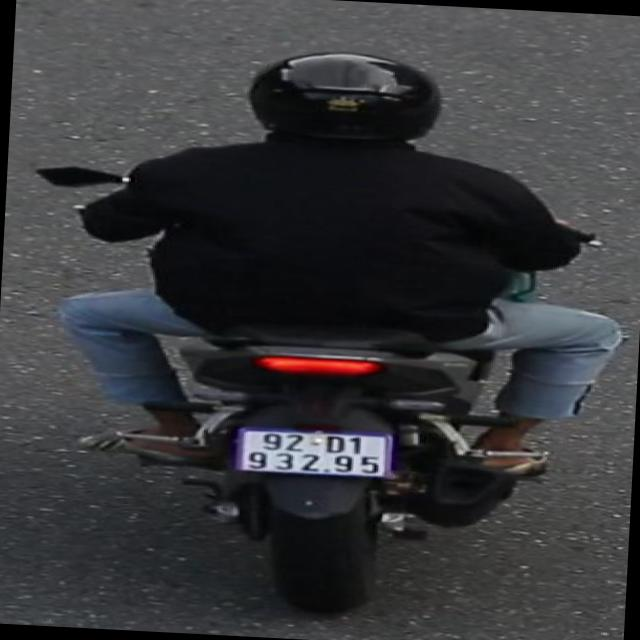LP: (230, 422, 404, 488)
helmet: (238, 42, 454, 156)
